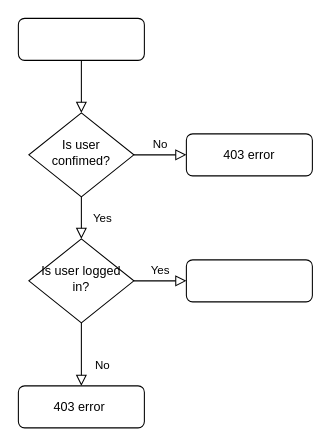
Some shapes in this 331 by 446 pixel diagram are drawn without their labels. The shapes that lost their labels are listed below. From the top down, each one's box as (x1, y1, x2, y2) in pixels, then its label:
(17, 17, 144, 60): User access protected route
(185, 259, 312, 302): route opened
